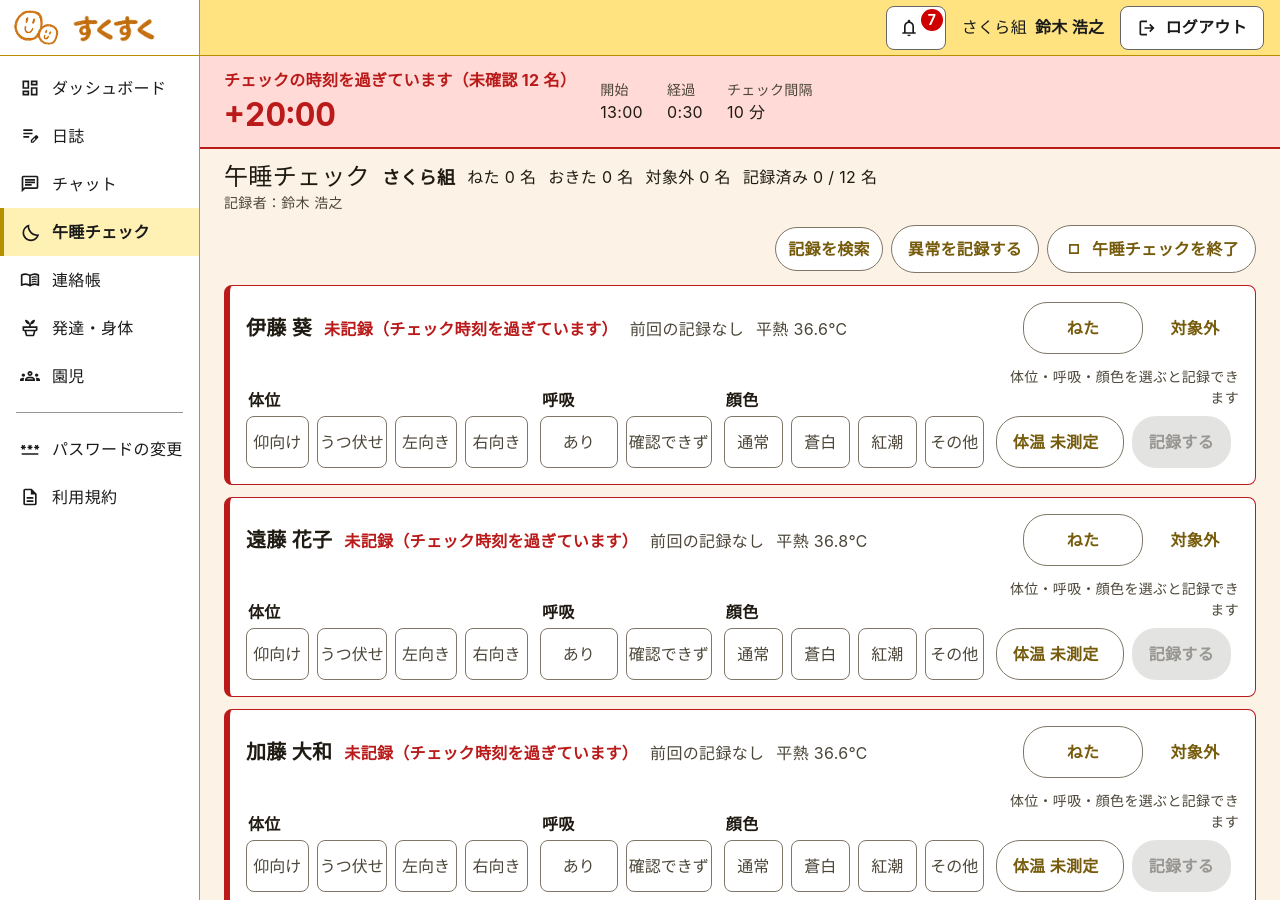
Test: 午睡チェック画面：異常に気づいたときの文 › 呼吸「確認できず」を選ぶと、記録より先に子どもへの対応と応援の要請を促し、記録はそのあとでよいと伝える
Expected: the element with class "nap-record-row" that starts with "伊藤 葵" is shown, [224, 285, 1256, 485]
Expected: the element with class "nap-record-row" does not show "呼吸が確認できません"
Click the 1st radio button labelled "確認できず".
click(669, 442)  # box [626, 416, 712, 468]
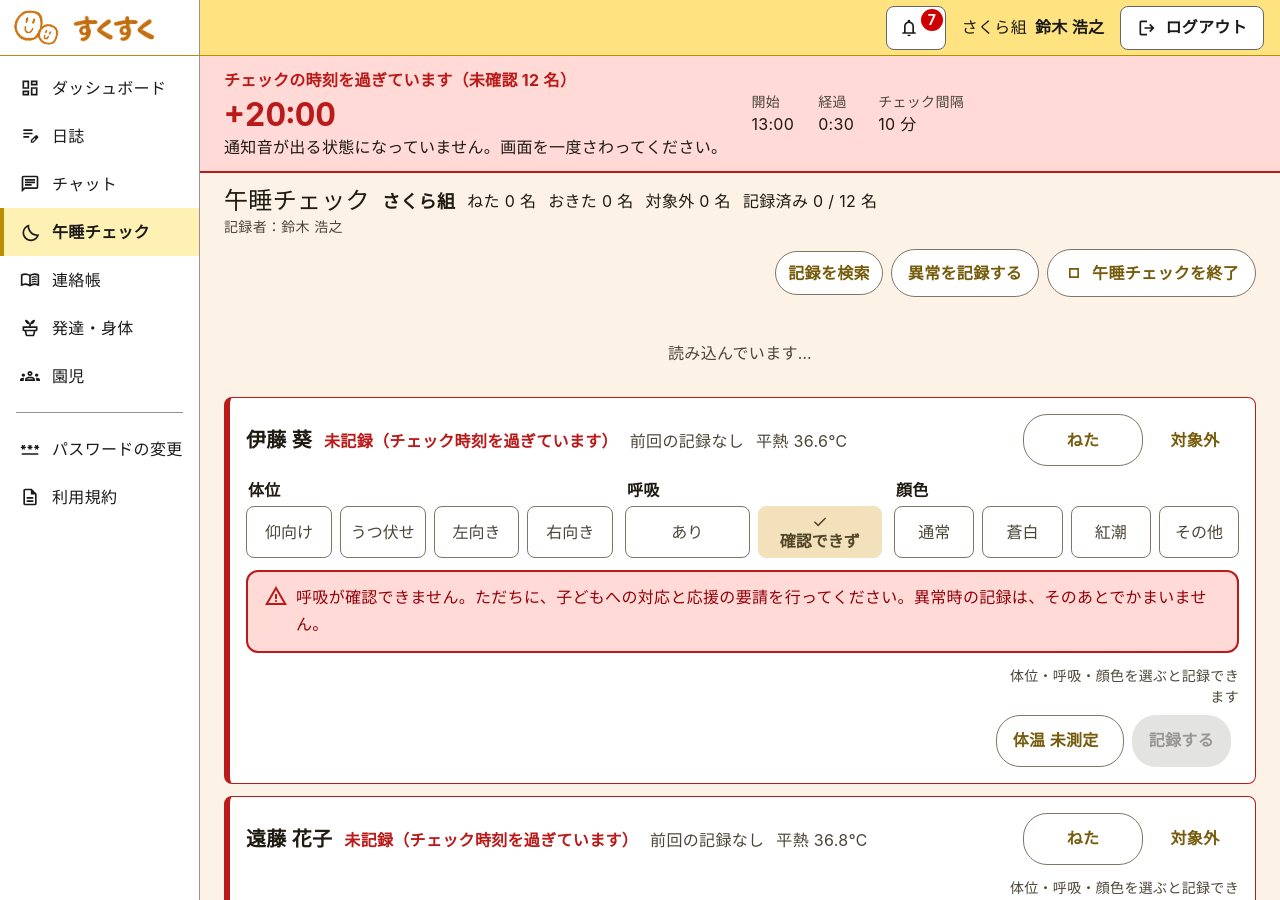
Result: the message "(!) 呼吸が確認できません。ただちに、子どもへの対応と応援の要請を行ってください。異常時の記録は、そのあとでかまいません。" is shown at [246, 570, 1239, 653]
Click the radio button labelled "あり".
click(687, 532)  # box [625, 506, 750, 558]
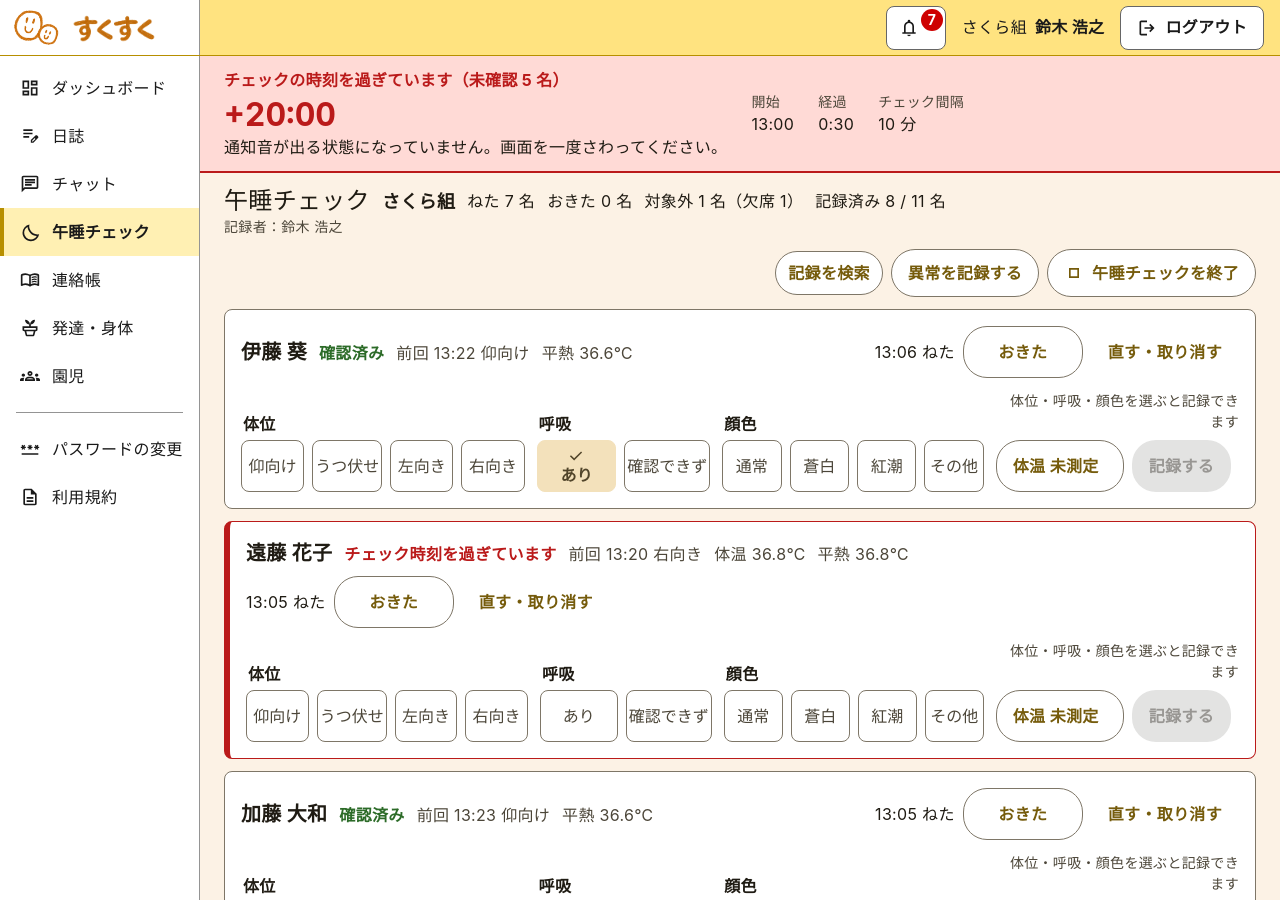
Result: the text with class "nap-record-row" no longer shows "呼吸が確認できません"
